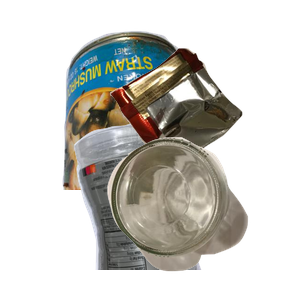glass: (105, 135, 300, 300)
metal: (60, 28, 300, 208)
plastic: (71, 120, 265, 300)
trash: (107, 46, 300, 198)
